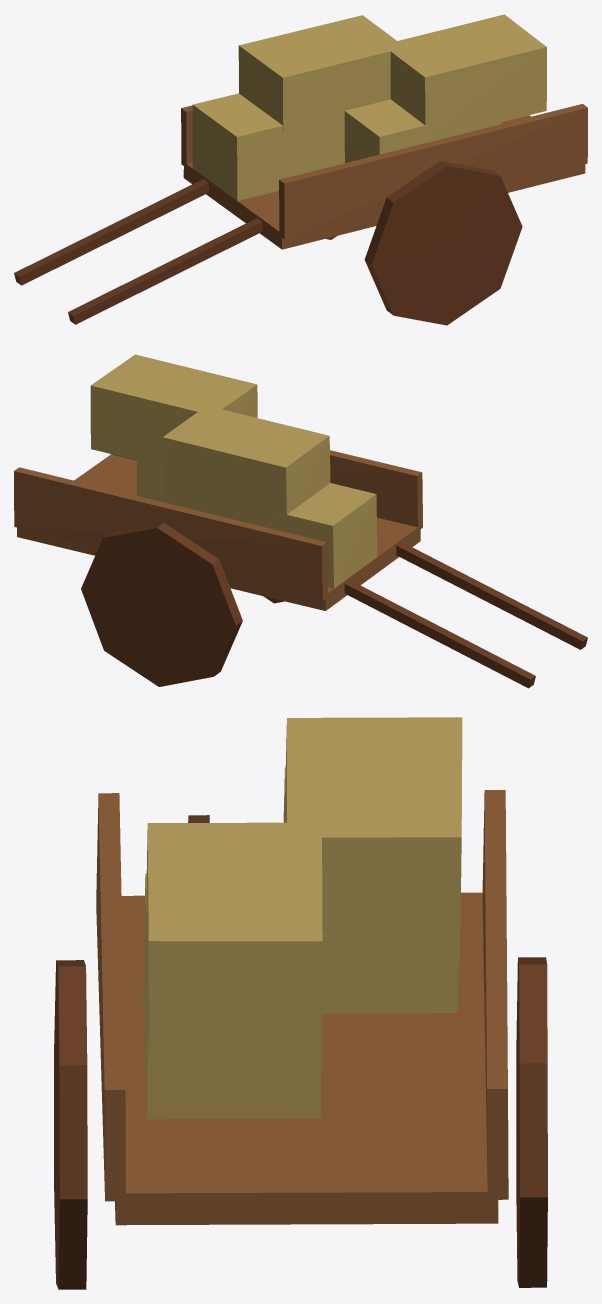
The model's file is cart-hay.glb.
3 renders of one model, top to bottom at view 1: azimuth 30°, elevation 25°; view 2: azimuth 150°, elevation 25°; view 3: azimuth 270°, elevation 25°, orthographic. The views are drawn at different scales.
Parts seen in each view (by area): view 1: props/cart-hay; view 2: props/cart-hay; view 3: props/cart-hay.
Part boxes in pixels (x1,y1,x2,y2): props/cart-hay: (14,14,587,325); props/cart-hay: (14,354,587,688); props/cart-hay: (54,717,547,1289).
Size of the model in its own units: 3.26 by 1.46 by 1.41.
